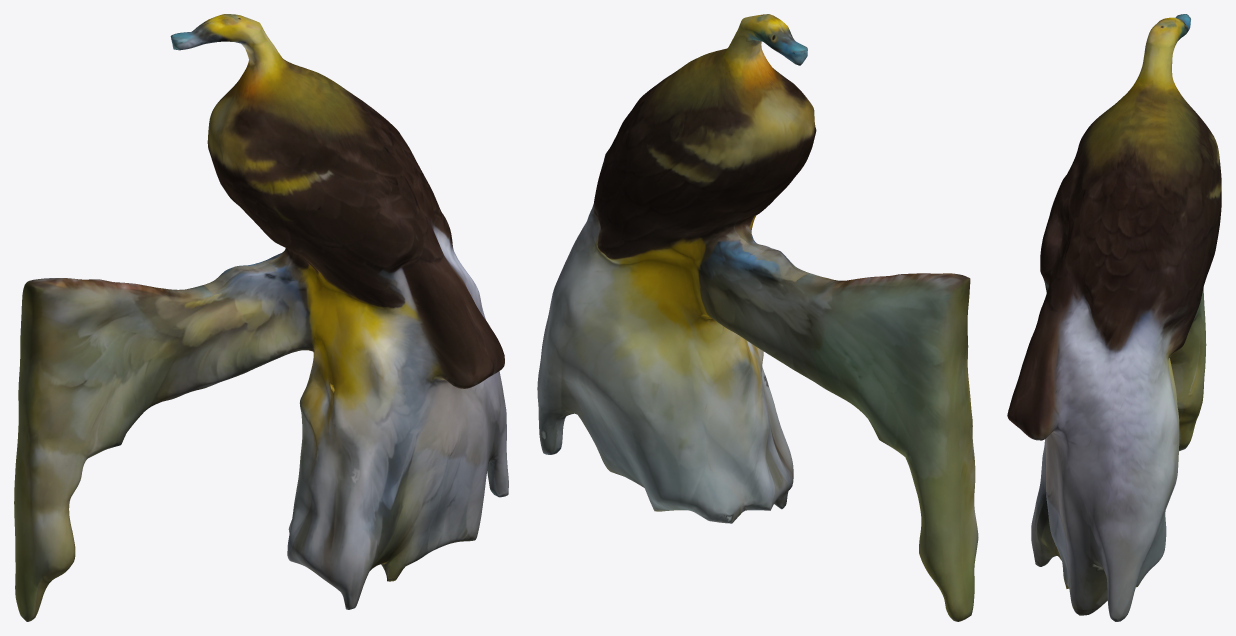
The model's file is cendrawasih_0610015548.fbx.
3 views of the same model, side by side, from view 1: azimuth 30°, elevation 25°; view 2: azimuth 150°, elevation 25°; view 3: azimuth 270°, elevation 25° (orthographic). The views are drawn at different scales.
Visible parts, largest first — view 1: Mesh_0; view 2: Mesh_0; view 3: Mesh_0.
Part boxes in pixels (<box>): Mesh_0: <box>14,14,508,621</box>; Mesh_0: <box>537,14,978,621</box>; Mesh_0: <box>1007,14,1221,621</box>.
Size of the model in its own units: 103 by 120 by 44.76.
Materials: 1 (1 with a texture image).
